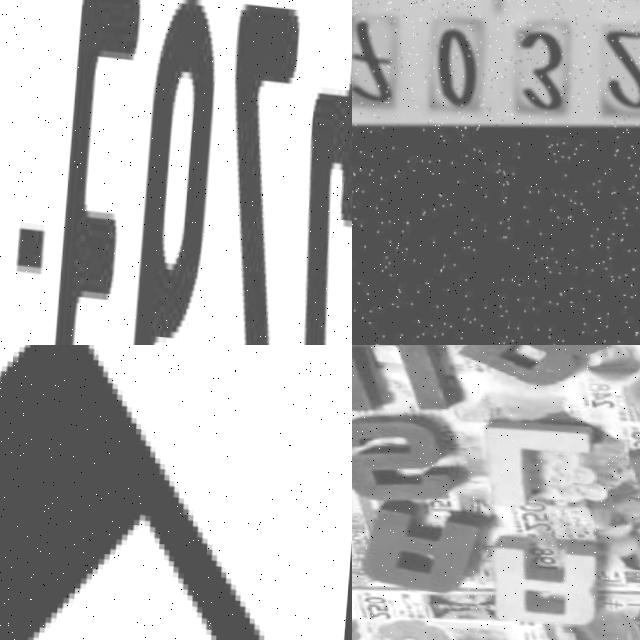0: (421, 14, 492, 110)
2: (194, 0, 296, 345), (592, 14, 640, 112)
3: (505, 14, 575, 114)
4: (281, 20, 352, 345)
6: (123, 0, 224, 345)
7: (352, 6, 407, 108)
A: (368, 500, 489, 595)
B: (464, 345, 624, 386)
E: (45, 0, 151, 345)
L: (491, 412, 596, 507)
R: (497, 528, 614, 624)
S: (352, 410, 463, 505)
U: (352, 345, 459, 418)
Y: (0, 345, 323, 640)
